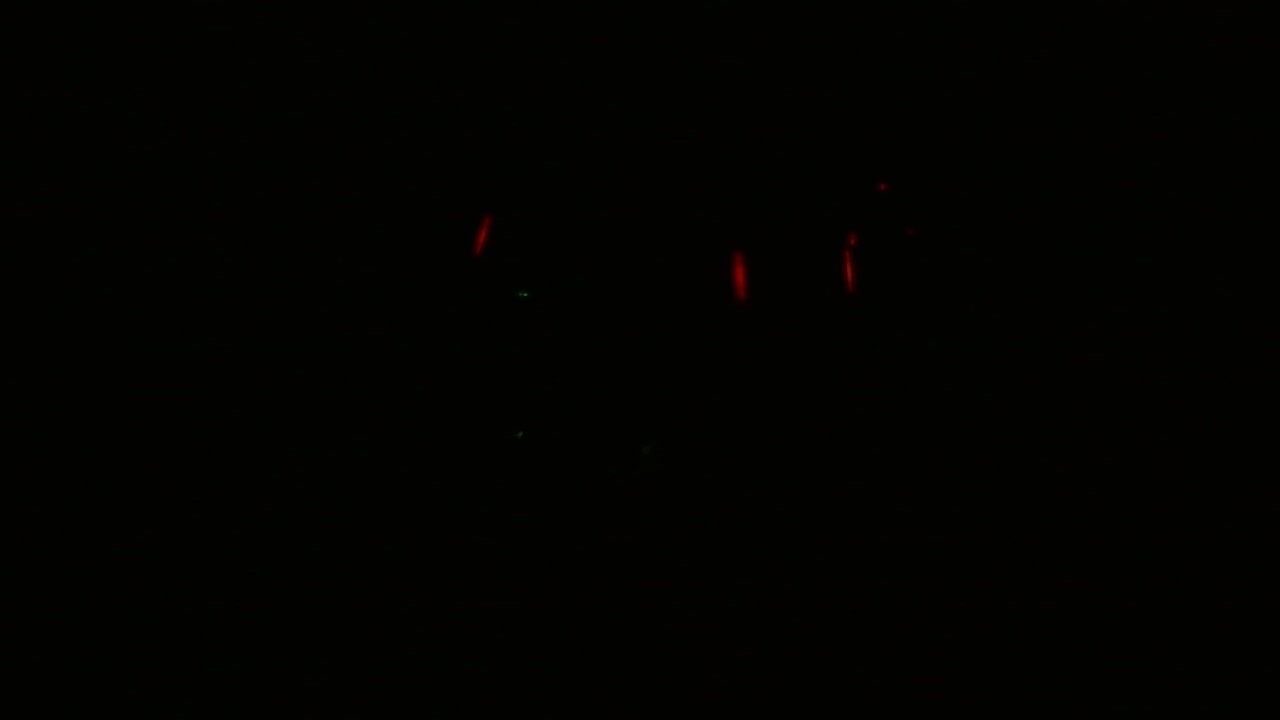pair1: (733, 243, 855, 300)
